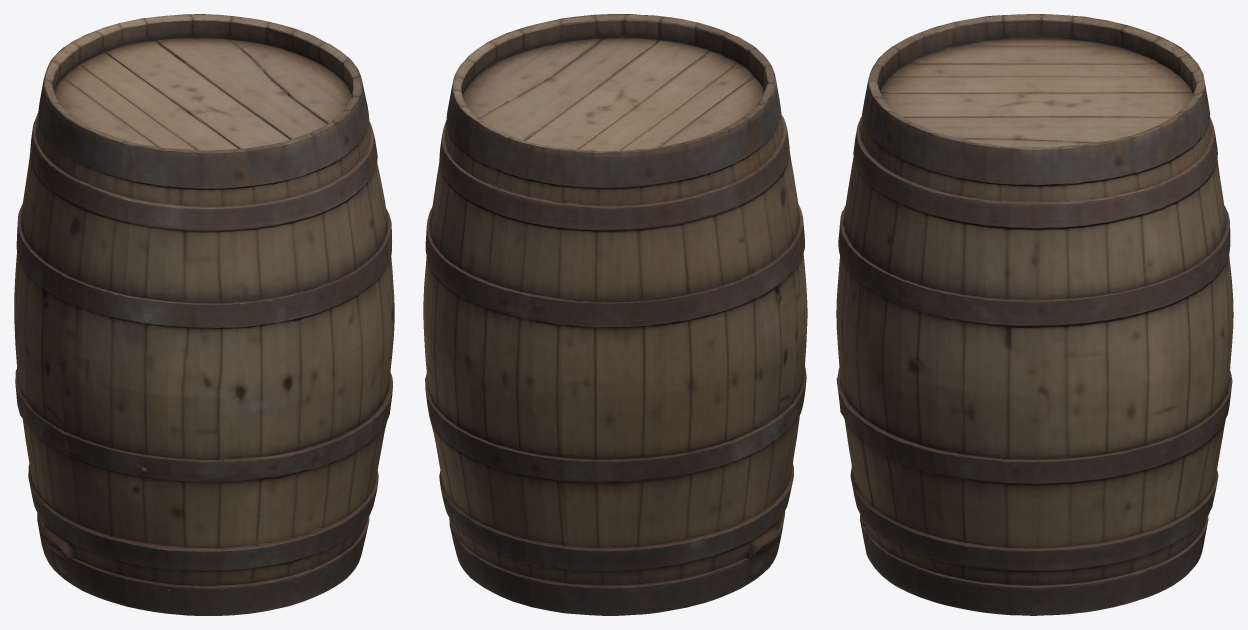
File: barrel.glb
3 views of the same model, side by side, from view 1: azimuth 30°, elevation 25°; view 2: azimuth 150°, elevation 25°; view 3: azimuth 270°, elevation 25° (orthographic).
Visible parts, largest first — view 1: geometry_0.004; view 2: geometry_0.004; view 3: geometry_0.004.
Part boxes in pixels (x1,y1,x2,y2): geometry_0.004: (14, 14, 394, 615); geometry_0.004: (423, 14, 807, 615); geometry_0.004: (836, 14, 1233, 615).
Bounding box in the file's own units: 0.5313 × 0.7172 × 0.552.
Materials: 1 (1 with a texture image).
